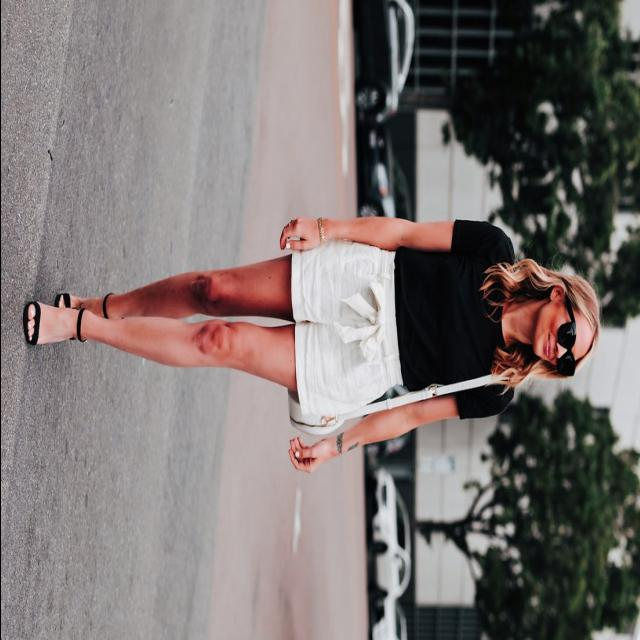shoulder: (476, 218, 516, 418)
